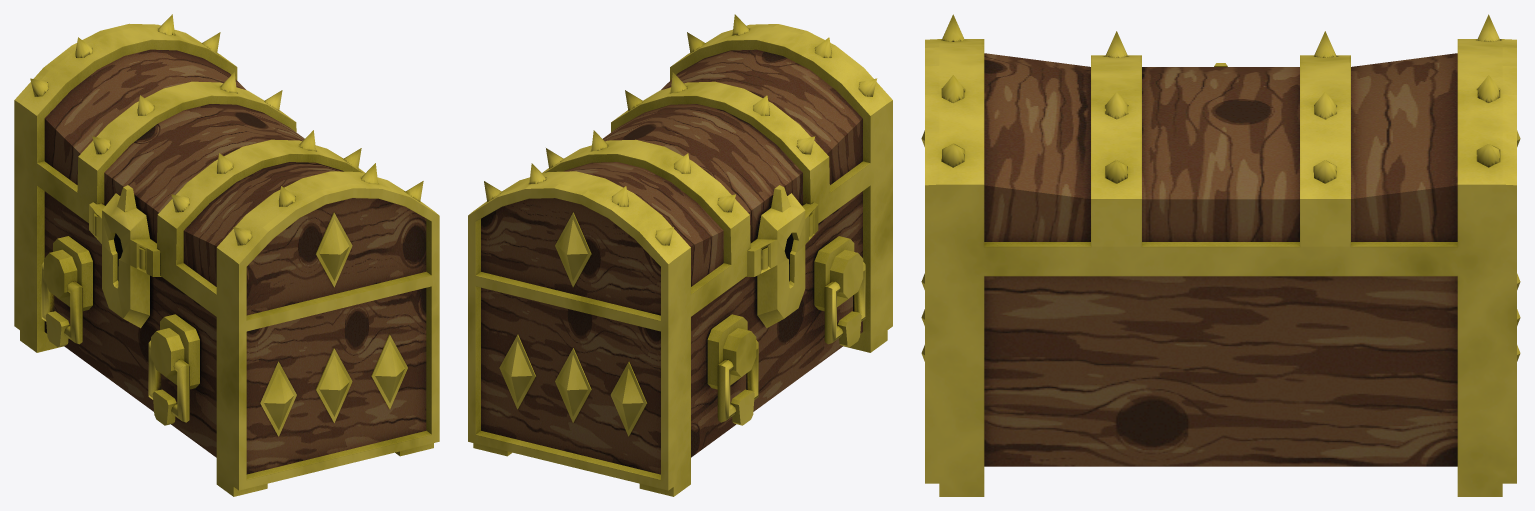
The picture shows the model from 3 angles, left to right: view 1: azimuth 30°, elevation 25°; view 2: azimuth 150°, elevation 25°; view 3: azimuth 270°, elevation 25°; orthographic projection. The views are drawn at different scales.
Visible parts, largest first — view 1: Geode; view 2: Geode; view 3: Geode.
Boxes of the visible parts, x1,y1,x2,y2 form: Geode: (14,14,439,496); Geode: (468,14,892,496); Geode: (921,14,1520,496).
Bounding box in the file's own units: 23.77 × 30.39 × 42.51.
Materials: 1 (1 with a texture image).
